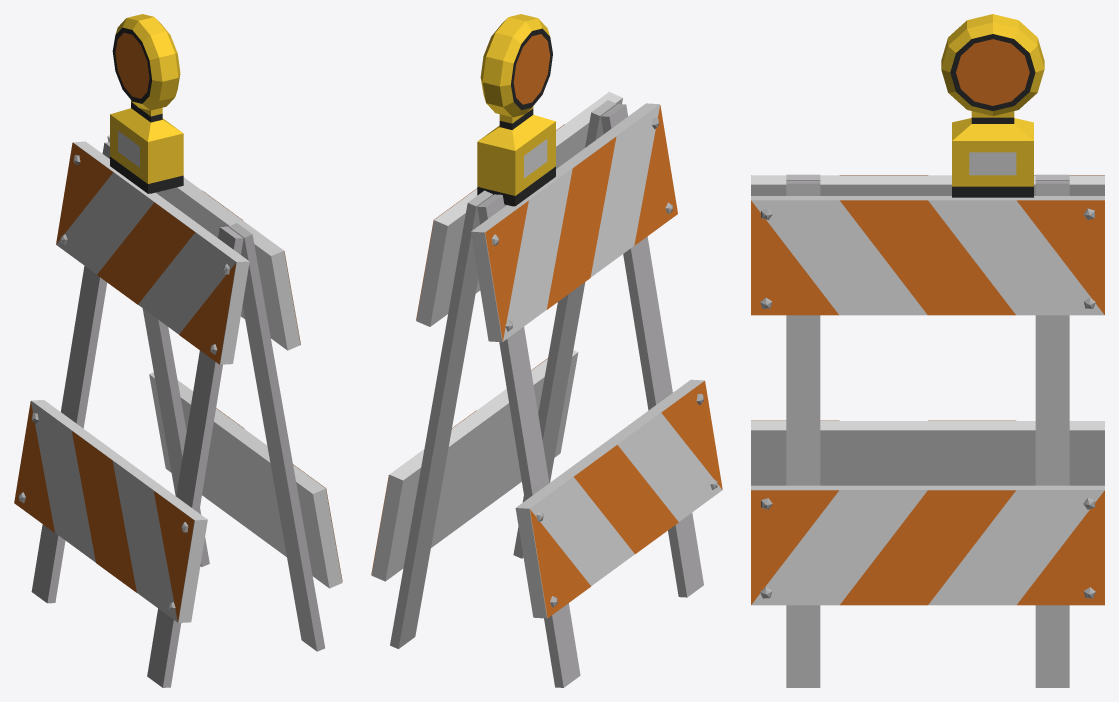
File: SM_road_block_2.gltf
3 views of the same model, side by side, from view 1: azimuth 30°, elevation 25°; view 2: azimuth 150°, elevation 25°; view 3: azimuth 270°, elevation 25° (orthographic). The views are drawn at different scales.
Parts seen in each view (by area): view 1: SM_road_block_2; view 2: SM_road_block_2; view 3: SM_road_block_2.
Part boxes in pixels (x1,y1,x2,y2): SM_road_block_2: [14, 14, 342, 687]; SM_road_block_2: [371, 14, 722, 687]; SM_road_block_2: [751, 14, 1104, 687].
Size of the model in its own units: 0.4039 by 1.33 by 0.6799.
Materials: 1 (1 with a texture image).
